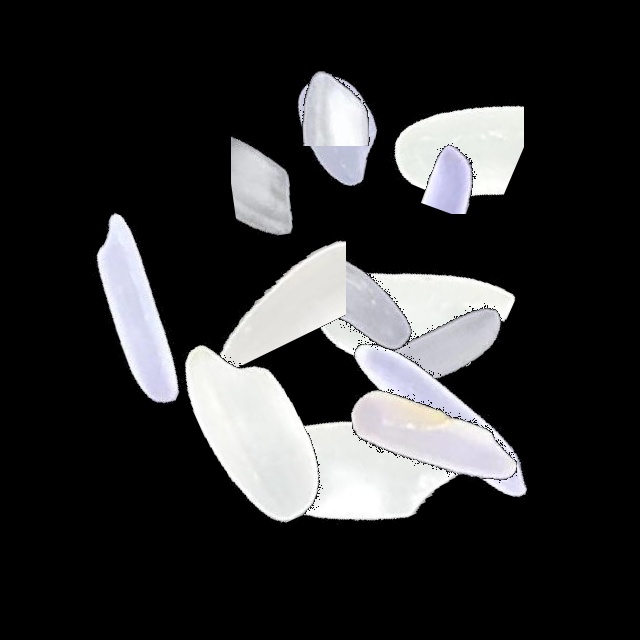Broken: (370, 6, 524, 256), (204, 144, 346, 394), (207, 10, 457, 146), (231, 53, 363, 303), (334, 123, 584, 214)
Full: (282, 189, 532, 439), (174, 347, 424, 597), (318, 222, 568, 472), (314, 295, 564, 545), (237, 339, 487, 589), (307, 312, 557, 562), (210, 6, 460, 256), (233, 178, 483, 428), (16, 183, 266, 433), (130, 304, 380, 554)
